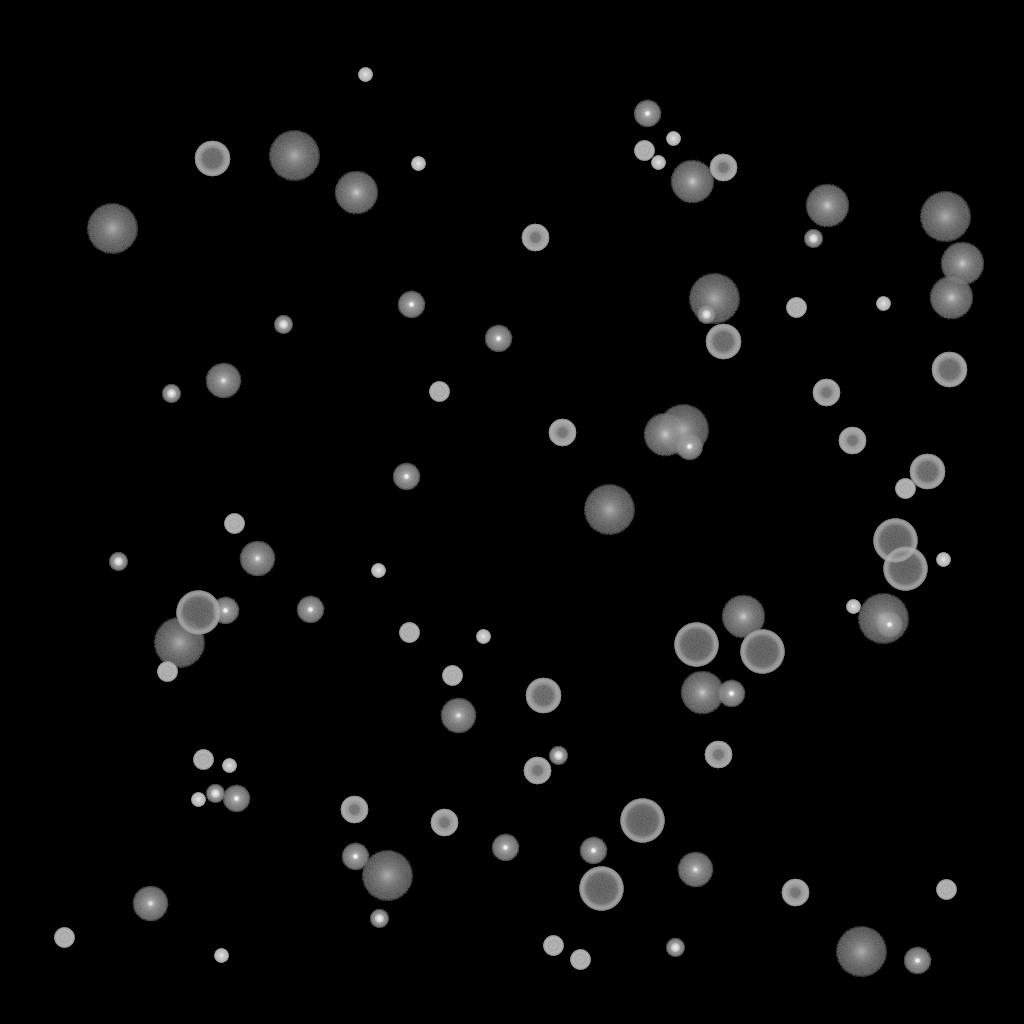depth:-10: (211, 597, 239, 625), (341, 843, 369, 871), (903, 947, 931, 975), (222, 785, 250, 813), (675, 433, 703, 461), (491, 834, 519, 862), (397, 291, 425, 319), (484, 325, 512, 353), (717, 680, 745, 708), (392, 463, 420, 491), (296, 596, 324, 624), (875, 611, 903, 639), (579, 837, 607, 865), (633, 100, 661, 128)
depth:-20: (206, 785, 224, 803), (666, 939, 684, 957), (697, 306, 715, 324), (109, 553, 127, 571), (370, 910, 388, 928), (274, 316, 292, 334), (162, 385, 180, 403), (549, 747, 567, 765), (804, 230, 822, 248)
depth:-30: (476, 630, 490, 644), (411, 157, 425, 171), (666, 132, 680, 146), (876, 297, 890, 311), (651, 156, 665, 170), (846, 600, 860, 614), (191, 793, 205, 807), (214, 949, 228, 963), (936, 553, 950, 567), (222, 759, 236, 773), (358, 68, 372, 82), (371, 564, 385, 578)
depth:-40: (786, 298, 806, 318), (193, 750, 213, 770), (634, 141, 654, 161), (936, 880, 956, 900), (570, 950, 590, 970), (224, 514, 244, 534), (442, 666, 462, 686), (543, 936, 563, 956), (429, 382, 449, 402), (399, 623, 419, 643), (157, 662, 177, 682), (895, 479, 915, 499), (54, 928, 74, 948)
depth:-50: (704, 741, 732, 769), (838, 427, 866, 455), (781, 879, 809, 907), (523, 757, 551, 785), (812, 379, 840, 407), (430, 809, 458, 837), (548, 419, 576, 447), (340, 796, 368, 824), (521, 224, 549, 252), (709, 154, 737, 182)
depth:-60: (194, 141, 230, 177), (525, 678, 561, 714), (705, 324, 741, 360), (909, 454, 945, 490), (931, 352, 967, 388)
depth:-70: (674, 623, 718, 667), (883, 547, 927, 591), (579, 867, 623, 911), (176, 591, 220, 635), (620, 799, 664, 843), (740, 630, 784, 674), (873, 519, 917, 563)
depth:0: (205, 363, 241, 399), (677, 852, 713, 888), (239, 541, 275, 577), (132, 886, 168, 922), (440, 698, 476, 734)
depth:10: (680, 671, 724, 715), (721, 595, 765, 639), (643, 413, 687, 457), (940, 242, 984, 286), (805, 184, 849, 228), (670, 160, 714, 204), (334, 171, 378, 215), (929, 276, 973, 320)
depth:20: (857, 594, 909, 644), (583, 485, 635, 535), (268, 131, 320, 181), (657, 405, 709, 455), (361, 851, 413, 901), (835, 927, 887, 977), (153, 618, 205, 668), (919, 192, 971, 242), (688, 274, 740, 324), (86, 204, 138, 254)
